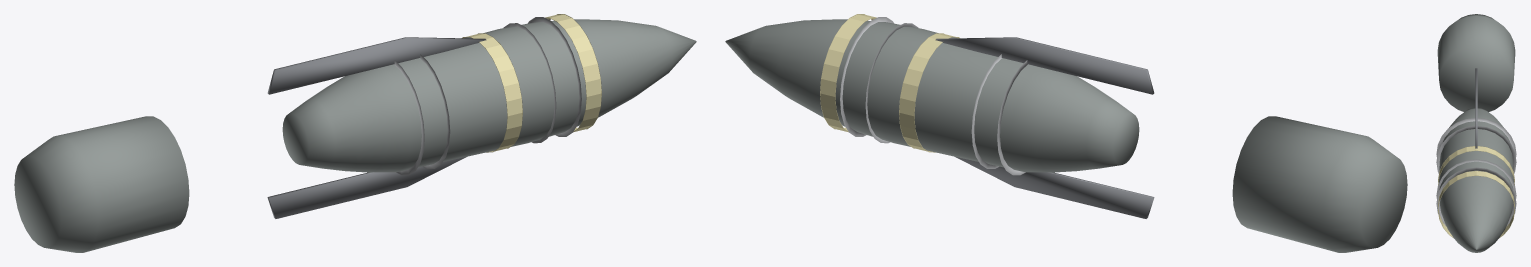
File: US_SLBM_Trident_D5_LOD1.fbx
3 views of the same model, side by side, from view 1: azimuth 30°, elevation 25°; view 2: azimuth 150°, elevation 25°; view 3: azimuth 270°, elevation 25° (orthographic). The views are drawn at different scales.
Visible parts, largest first — view 1: WPN_US_SLBM_Trident_D5_LOD1_Body, WPN_US_SLBM_Trident_D5_LOD1_Tail, WPN_US_SLBM_Trident_D5_LOD1_Detail, WPN_US_SLBM_Trident_D5_LOD1_Marking; view 2: WPN_US_SLBM_Trident_D5_LOD1_Body, WPN_US_SLBM_Trident_D5_LOD1_Tail, WPN_US_SLBM_Trident_D5_LOD1_Detail, WPN_US_SLBM_Trident_D5_LOD1_Marking; view 3: WPN_US_SLBM_Trident_D5_LOD1_Body, WPN_US_SLBM_Trident_D5_LOD1_Tail, WPN_US_SLBM_Trident_D5_LOD1_Detail, WPN_US_SLBM_Trident_D5_LOD1_Marking.
Part boxes in pixels (<box>): WPN_US_SLBM_Trident_D5_LOD1_Body: <box>282,19,696,172</box>; WPN_US_SLBM_Trident_D5_LOD1_Tail: <box>14,116,189,252</box>; WPN_US_SLBM_Trident_D5_LOD1_Detail: <box>267,17,581,218</box>; WPN_US_SLBM_Trident_D5_LOD1_Marking: <box>462,14,601,152</box>; WPN_US_SLBM_Trident_D5_LOD1_Body: <box>725,19,1139,172</box>; WPN_US_SLBM_Trident_D5_LOD1_Tail: <box>1232,116,1407,252</box>; WPN_US_SLBM_Trident_D5_LOD1_Detail: <box>840,17,1154,218</box>; WPN_US_SLBM_Trident_D5_LOD1_Marking: <box>820,14,959,152</box>; WPN_US_SLBM_Trident_D5_LOD1_Body: <box>1438,108,1514,252</box>; WPN_US_SLBM_Trident_D5_LOD1_Tail: <box>1437,14,1515,111</box>; WPN_US_SLBM_Trident_D5_LOD1_Detail: <box>1436,68,1516,226</box>; WPN_US_SLBM_Trident_D5_LOD1_Marking: <box>1438,146,1514,237</box>.
Bounding box in the file's own units: 13.6 × 2.22 × 2.93.
